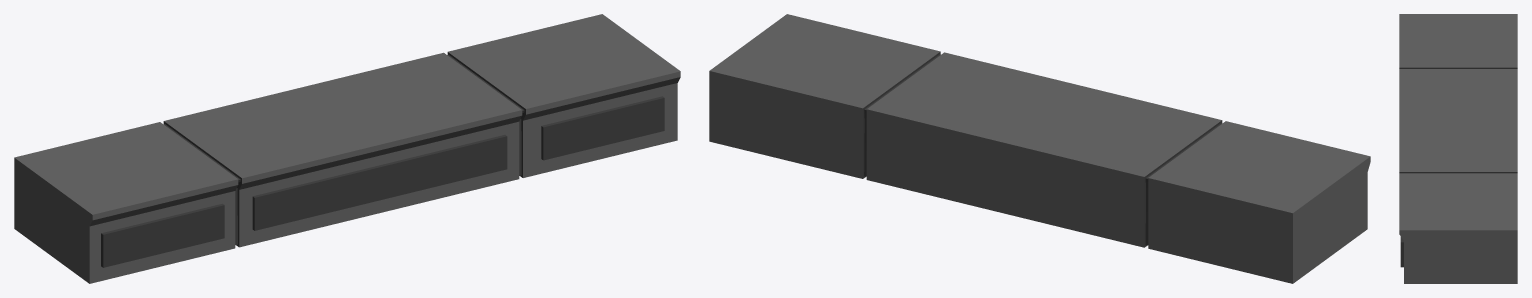
File: table_H.FBX
3 renders of one model, left to right at view 1: azimuth 30°, elevation 25°; view 2: azimuth 150°, elevation 25°; view 3: azimuth 270°, elevation 25°, orthographic. The views are drawn at different scales.
Visible parts, largest first — view 1: table_H; view 2: table_H; view 3: table_H.
Boxes of the visible parts, x1,y1,x2,y2 form: table_H: (14,14,680,283); table_H: (709,14,1370,283); table_H: (1399,14,1517,283).
Bounding box in the file's own units: 317 × 36.71 × 73.13.
